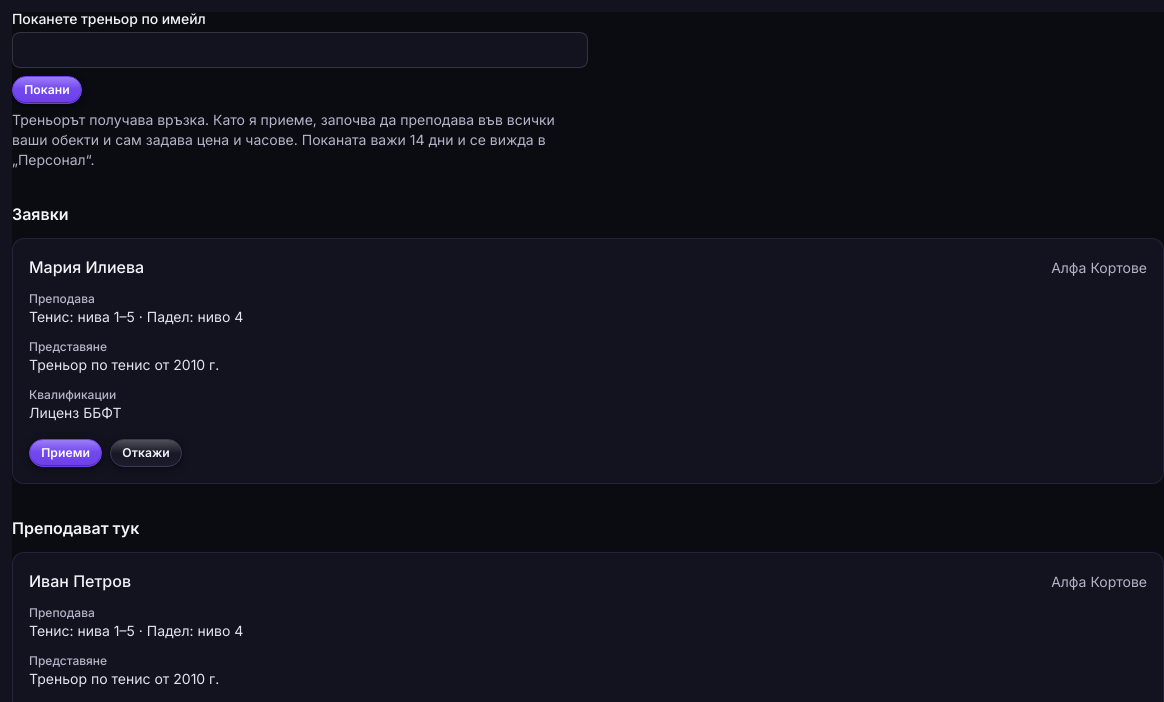
what each button asks for › a refusal is said on the card it is about
The width and height of the screenshot is (1164, 702).
Click the button with test id "club-coach-accept": (66, 453) [29, 439, 102, 467]
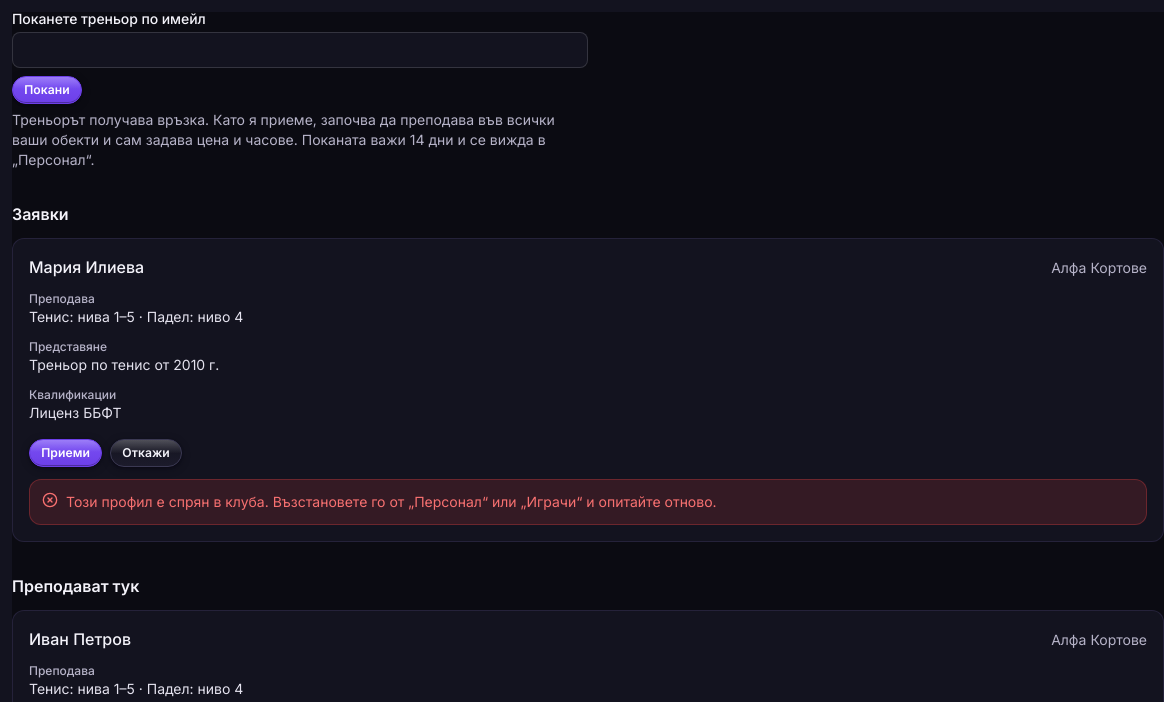
Expected: the message shows "Този профил е спрян в клуба. Възстановете го от „Персонал“ или „Играчи“ и опитайте отново.", [66, 493, 717, 510]
